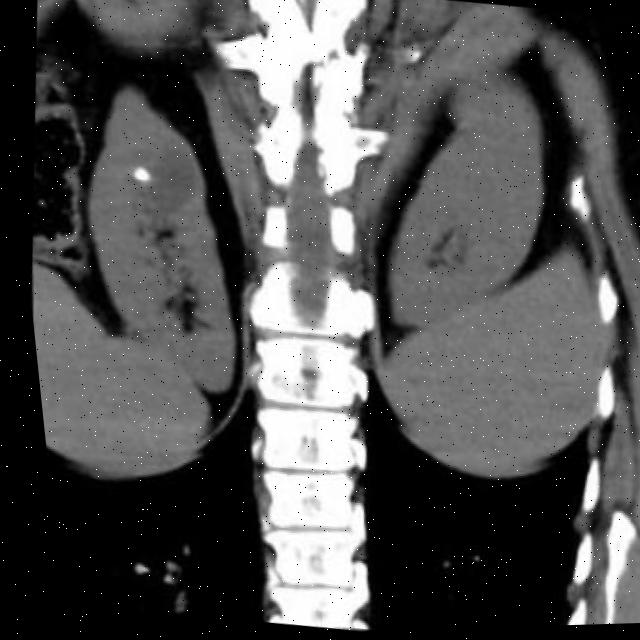Tas_Var: (118, 161, 152, 193)
